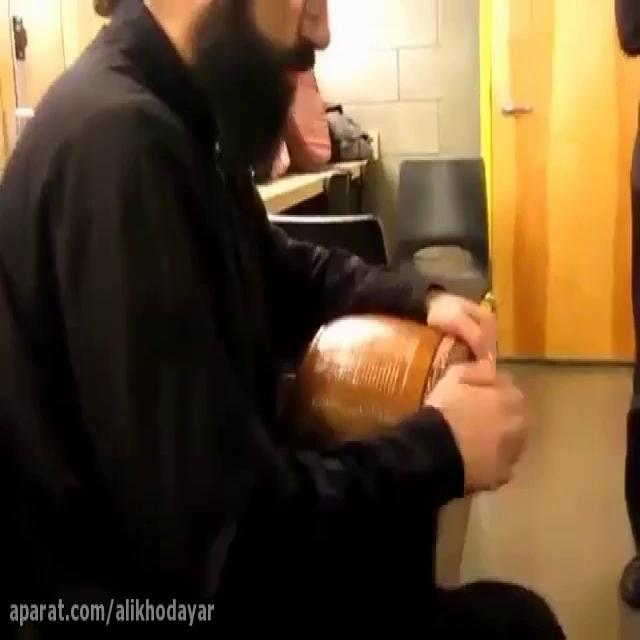Tombak: (278, 310, 481, 590)
